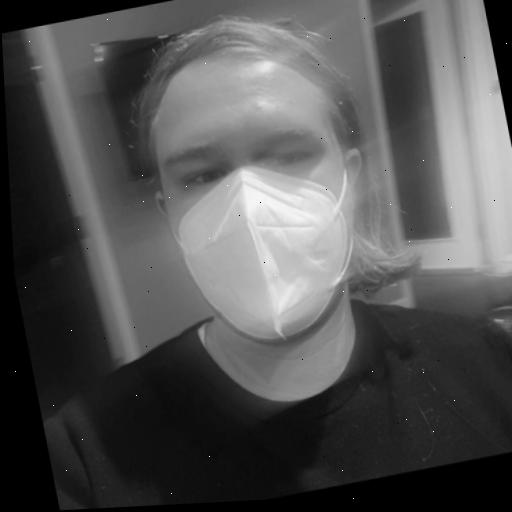mask: (91, 0, 428, 378)
